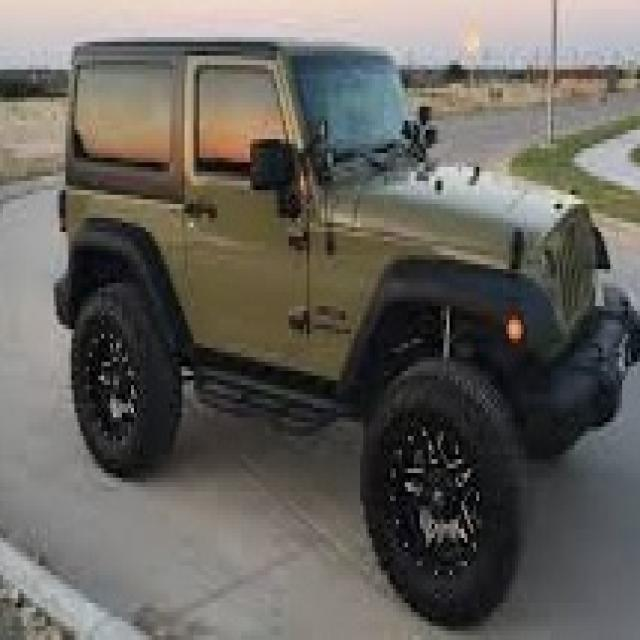green: (69, 41, 636, 631)
